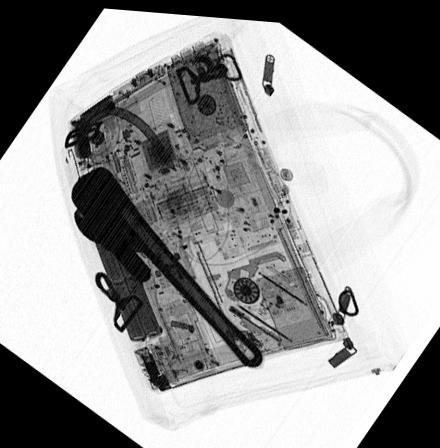Wrench: (69, 162, 265, 364)
